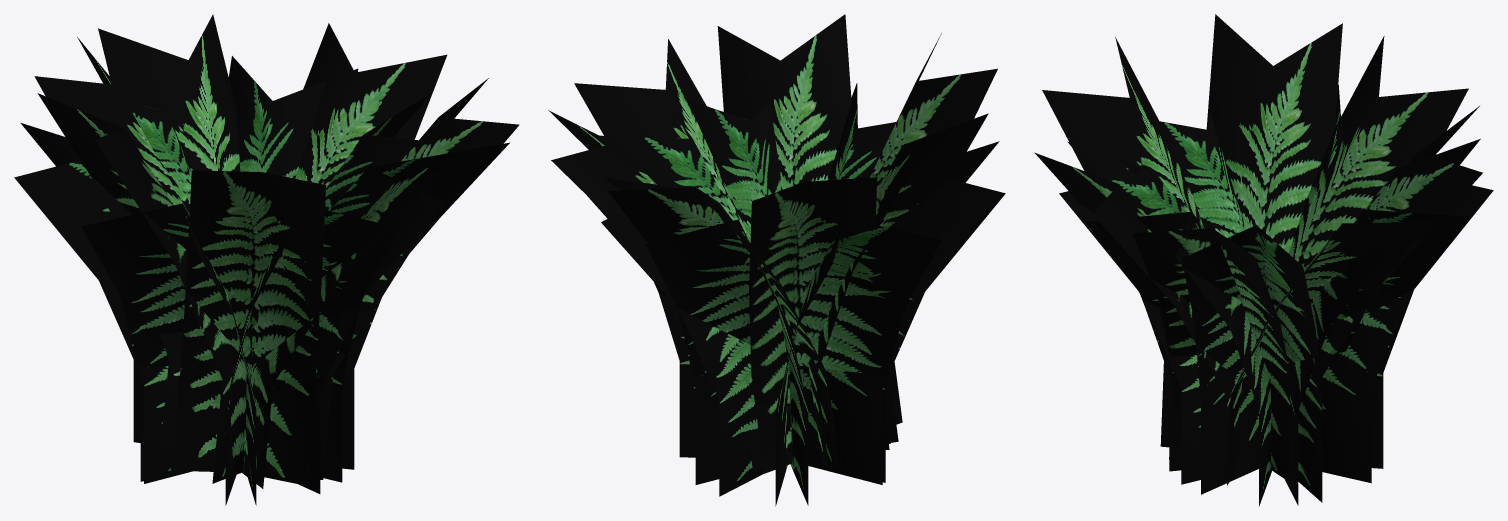
3 renders of one model, left to right at view 1: azimuth 30°, elevation 25°; view 2: azimuth 150°, elevation 25°; view 3: azimuth 270°, elevation 25°, orthographic. The views are drawn at different scales.
Parts seen in each view (by area): view 1: pPlane15; view 2: pPlane15; view 3: pPlane15.
Boxes of the visible parts, bbox=[...] form: pPlane15: bbox=[14, 14, 519, 505]; pPlane15: bbox=[548, 14, 1005, 506]; pPlane15: bbox=[1034, 14, 1493, 506].
Bounding box in the file's own units: 148 × 127 × 145.
Materials: 1 (1 with a texture image).
